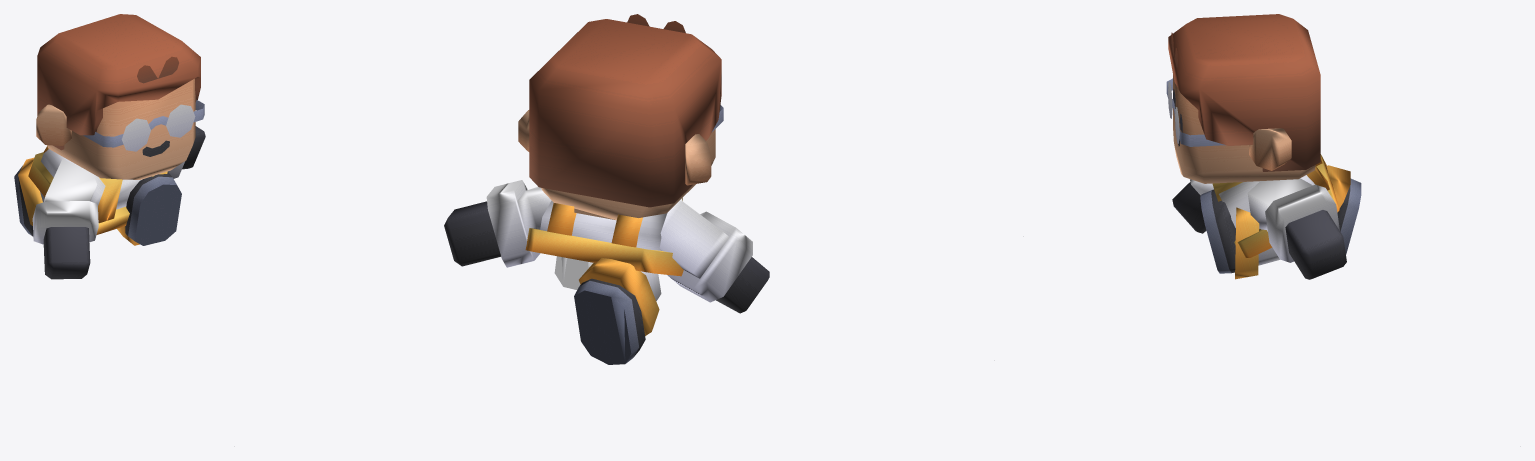
The model's file is builder_sprint_2.glb.
3 renders of one model, left to right at view 1: azimuth 30°, elevation 25°; view 2: azimuth 150°, elevation 25°; view 3: azimuth 270°, elevation 25°, orthographic. The views are drawn at different scales.
Parts seen in each view (by area): view 1: builder-sprint-2; view 2: builder-sprint-2; view 3: builder-sprint-2.
Part boxes in pixels (x1,y1,x2,y2): builder-sprint-2: (14, 14, 205, 279); builder-sprint-2: (444, 14, 769, 364); builder-sprint-2: (1166, 14, 1361, 279).
Bounding box in the file's own units: 1.2 × 0.8174 × 1.2.
Materials: 1 (1 with a texture image).
